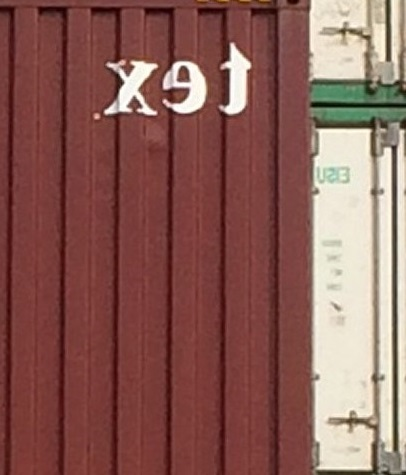container_no_door: (2, 3, 314, 472)
